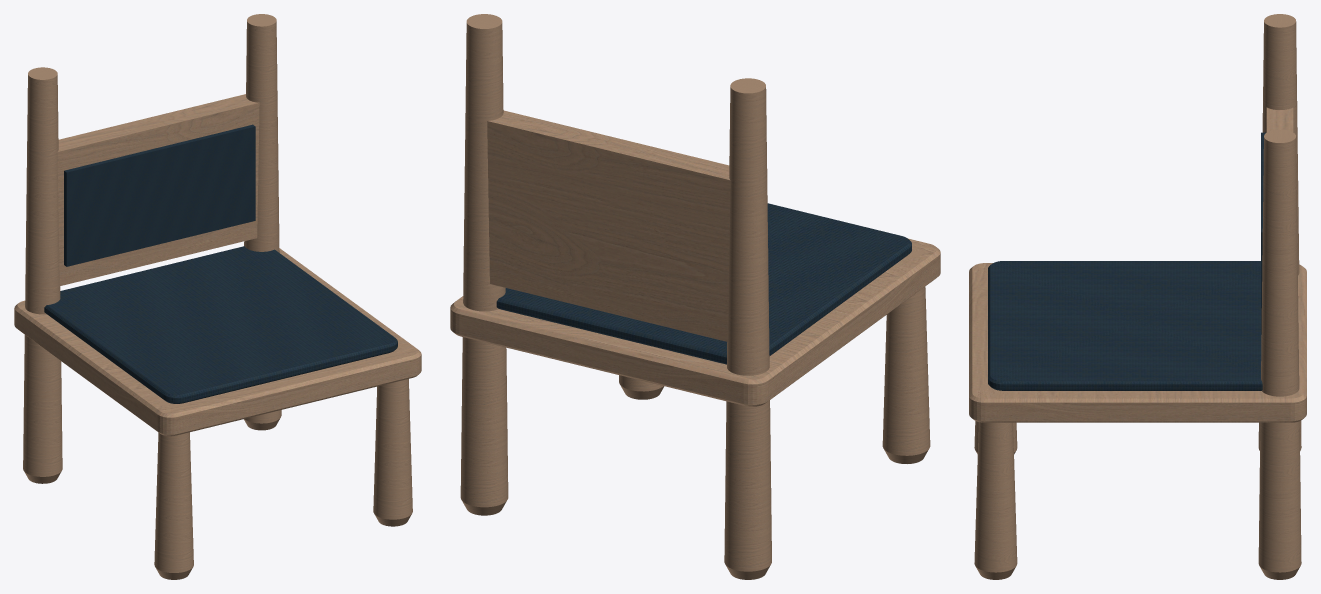
File: furn_com_r_chair_01.dae
3 renders of one model, left to right at view 1: azimuth 30°, elevation 25°; view 2: azimuth 150°, elevation 25°; view 3: azimuth 270°, elevation 25°, orthographic. The views are drawn at different scales.
Visible parts, largest first — view 1: oak, navy; view 2: oak, navy; view 3: oak, navy.
Part boxes in pixels (left/top/right/bottom): oak: left=14, top=14, right=421, bottom=579; navy: left=44, top=124, right=397, bottom=403; oak: left=450, top=14, right=940, bottom=579; navy: left=496, top=203, right=911, bottom=364; oak: left=969, top=14, right=1306, bottom=579; navy: left=988, top=132, right=1265, bottom=390.
Size of what is drawn, in the model's own units: 61 by 63 by 89.9.
